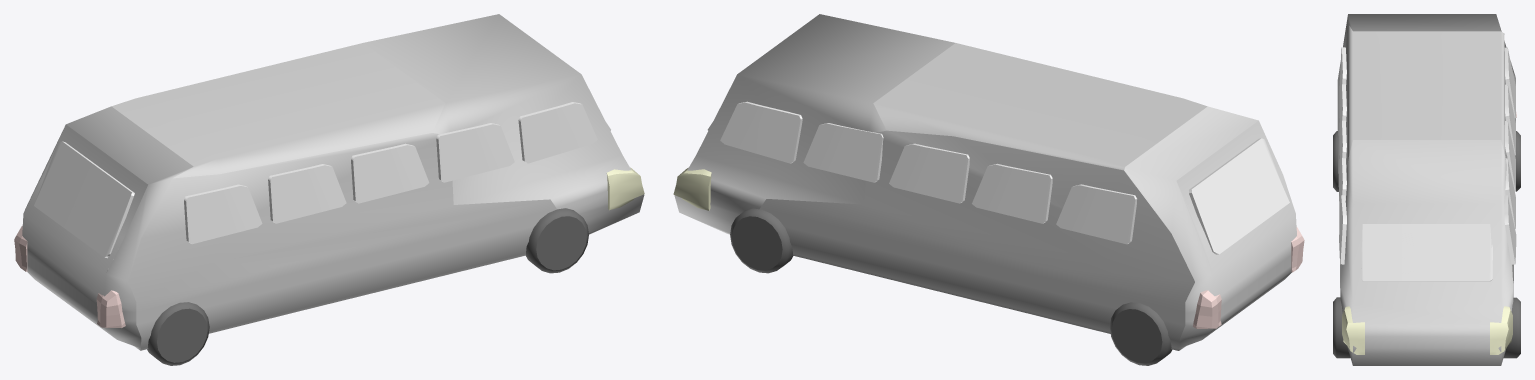
Rendered from CarroBlanco.fbx.
3 renders of one model, left to right at view 1: azimuth 30°, elevation 25°; view 2: azimuth 150°, elevation 25°; view 3: azimuth 270°, elevation 25°, orthographic. The views are drawn at different scales.
Visible parts, largest first — view 1: pCube1, pCube10, pCube8, pCube13, pCube14, pCube12, pasted__pCube8, pCylinder1, pCylinder2, pCube11, pCube9; view 2: pCube1, pCube10, pasted__pasted__pCube12, pasted__pCube17, pasted__pCube15, pasted__pCube16, pasted__pCube12, pCylinder3, pCylinder4, pCube11, pCube9; view 3: pCube1, pCube6, pCube9, pCylinder1, pCylinder3, pasted__pasted__pCube12, pasted__pCube8, pasted__pCube17, pasted__pCube15, pasted__pCube16, pasted__pCube12, pCylinder2 (+5 smaller).
Part boxes in pixels (x1,y1,x2,y2): pCube1: (22,14,644,350); pCube10: (34,141,134,258); pCube8: (436,123,514,182); pCube13: (268,164,346,223); pCube14: (184,184,262,244); pCube12: (351,143,429,203); pasted__pCube8: (518,102,597,163); pCylinder1: (526,208,588,273); pCylinder2: (147,302,209,365); pCube11: (14,226,125,327); pCube9: (606,167,644,210); pCube1: (674,14,1296,350); pCube10: (1189,138,1289,254); pasted__pasted__pCube12: (720,101,802,163); pasted__pCube17: (1056,184,1137,244); pasted__pCube15: (889,143,969,203); pasted__pCube16: (972,163,1052,223); pasted__pCube12: (803,123,883,182); pCylinder3: (730,208,793,273); pCylinder4: (1109,302,1172,365); pCube11: (1193,227,1304,328); pCube9: (673,167,711,210); pCube1: (1337,14,1515,365); pCube6: (1361,224,1492,281); pCube9: (1342,306,1512,354); pCylinder1: (1333,297,1350,358); pCylinder3: (1503,297,1520,358); pasted__pasted__pCube12: (1504,195,1516,264); pasted__pCube8: (1339,195,1346,264); pasted__pCube17: (1504,47,1515,118); pasted__pCube15: (1505,120,1515,191); pasted__pCube16: (1505,84,1515,155); pasted__pCube12: (1505,158,1515,228); pCylinder2: (1333,131,1338,191).
Bounding box in the file's own units: 33.34 × 11.06 × 11.09.
